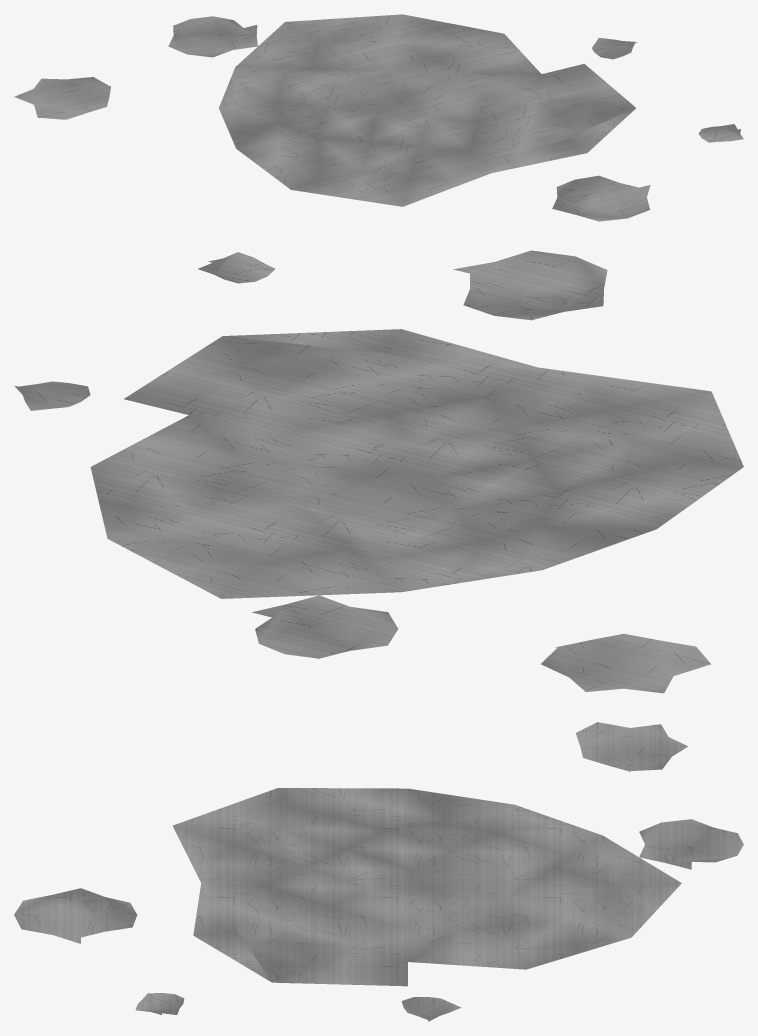
The model's file is oil_stain.glb.
The picture shows the model from 3 angles, top to bottom: view 1: azimuth 30°, elevation 25°; view 2: azimuth 150°, elevation 25°; view 3: azimuth 270°, elevation 25°; orthographic projection. The views are drawn at different scales.
Parts seen in each view (by area): view 1: oil_stain; view 2: oil_stain; view 3: oil_stain.
Part boxes in pixels (x1,y1,x2,y2): oil_stain: (14, 14, 743, 221); oil_stain: (14, 250, 743, 693); oil_stain: (14, 722, 743, 1021).
Size of the model in its own units: 17.38 by 7.63e-16 by 17.88.
1 material, 1 textured.
